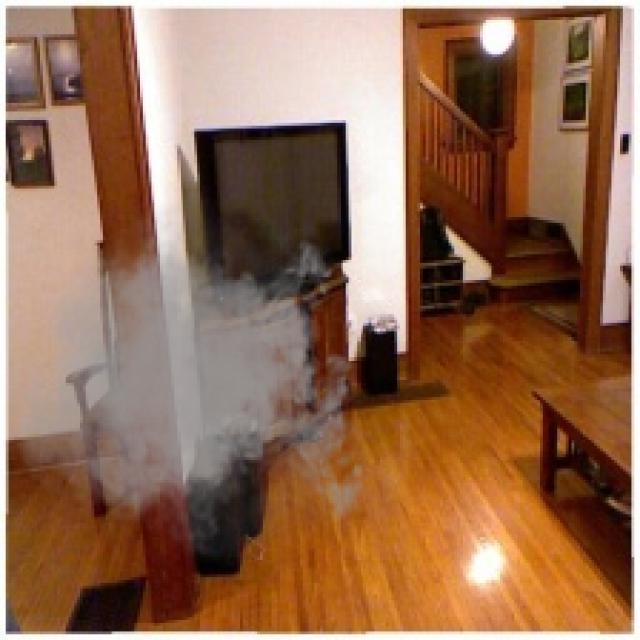Smoke: (12, 182, 374, 578)
